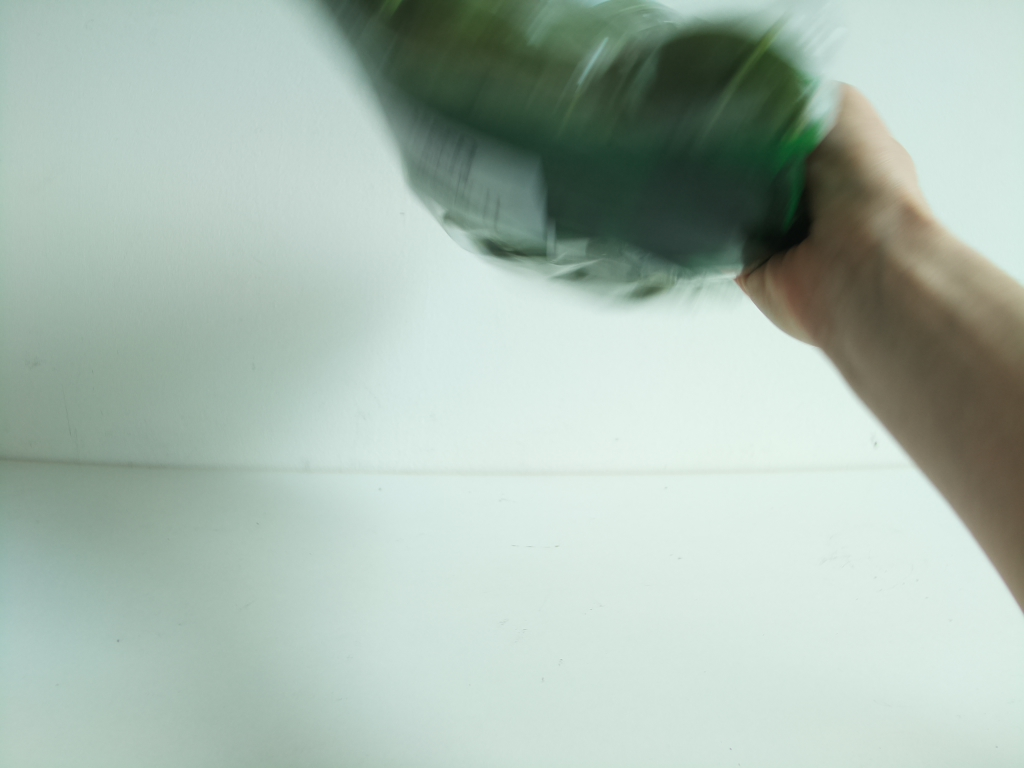salad: (308, 1, 838, 308)
